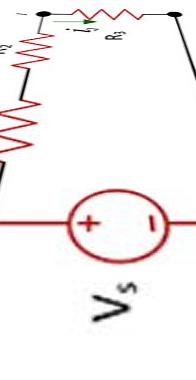resistor: (0, 91, 48, 164), (14, 22, 63, 72), (55, 2, 148, 20)
